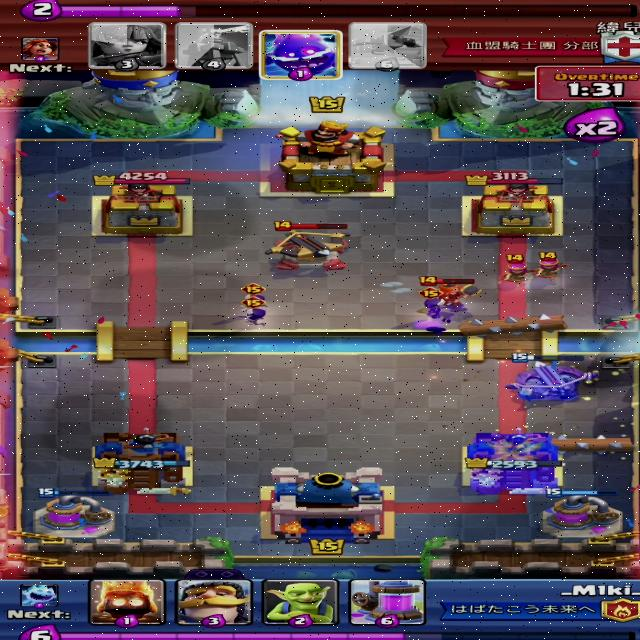Enemy-Archer: (526, 252, 574, 283), (496, 253, 536, 286)
Enemy-Log: (518, 433, 637, 455)
Enemy-Skeleton-Evo: (236, 296, 272, 328), (417, 287, 446, 318), (237, 283, 268, 311), (413, 286, 443, 314)
Enemy-Valkyrie: (417, 275, 482, 310)
Enemy-XBow: (264, 221, 354, 272)
Player-ElixirPump: (31, 488, 120, 540), (540, 487, 626, 540)
Player-XBow: (509, 352, 603, 402)
